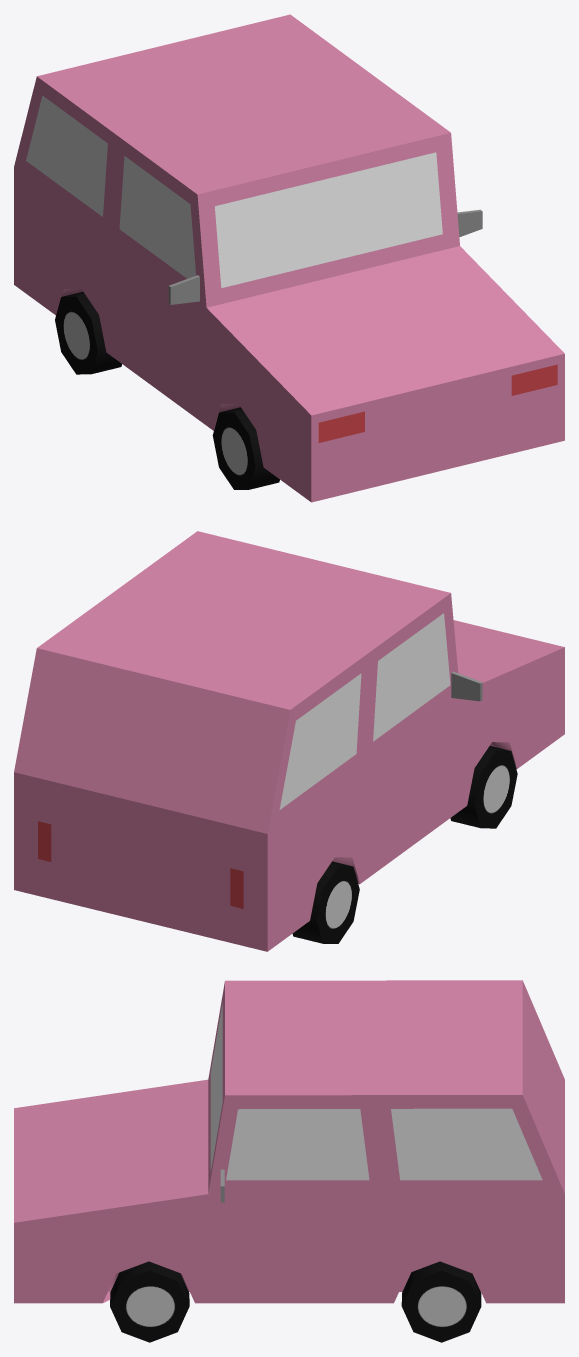
The model's file is Car_1.FBX.
3 renders of one model, top to bottom at view 1: azimuth 30°, elevation 25°; view 2: azimuth 150°, elevation 25°; view 3: azimuth 270°, elevation 25°, orthographic. The views are drawn at different scales.
Parts seen in each view (by area): view 1: Car 01; view 2: Car 01; view 3: Car 01.
Boxes of the visible parts, x1,y1,x2,y2 form: Car 01: (14,14,564,502); Car 01: (14,531,564,951); Car 01: (14,980,564,1342).
Size of the model in its own units: 1.87 by 1.52 by 3.1.
1 material, 1 textured.
